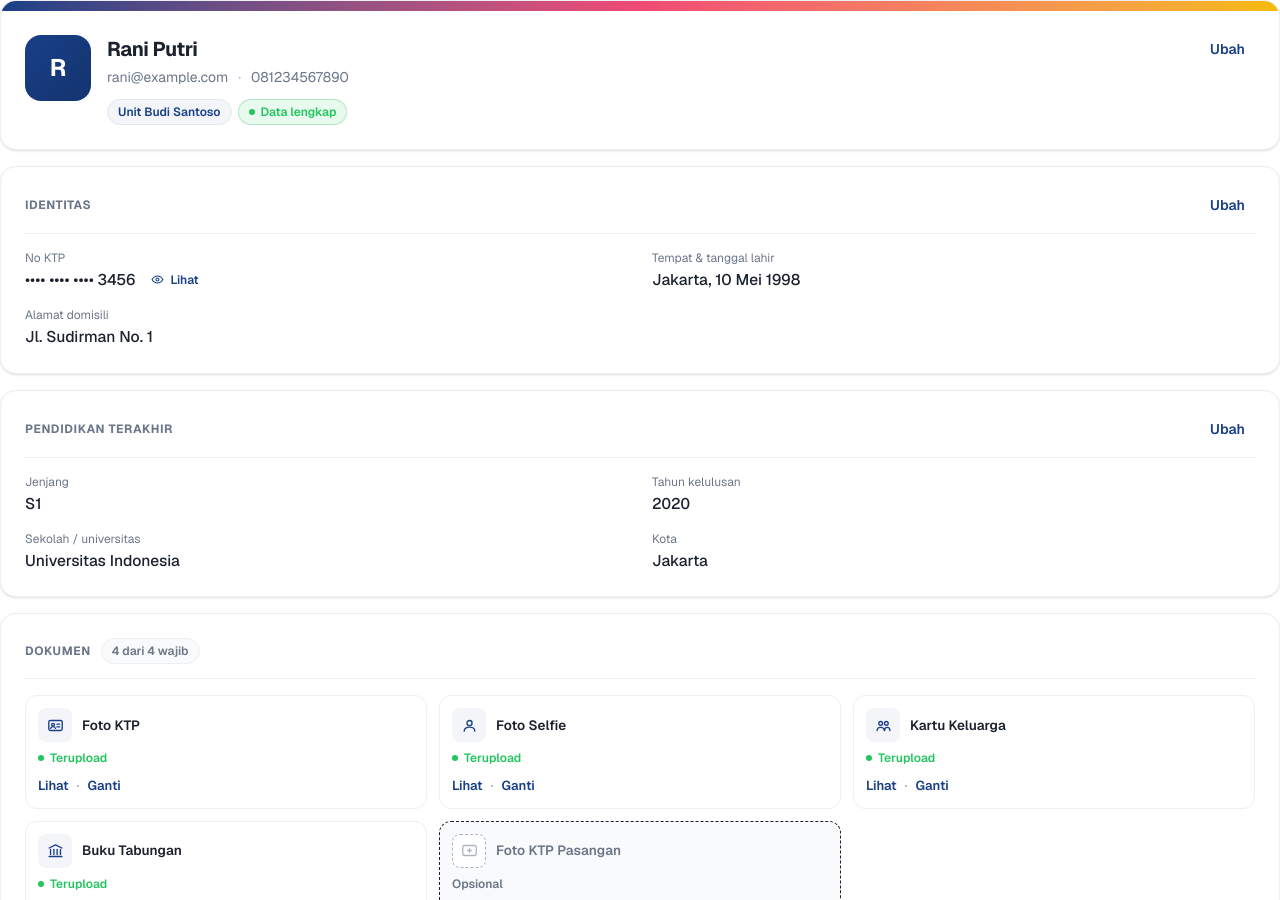
Test case: JoinDataForm — per-section editing › editing Identitas only sends that section's fields as changed
The width and height of the screenshot is (1280, 900).
Click the button with aria-label "Ubah Identitas" at (1227, 205), box [1200,191,1255,219]
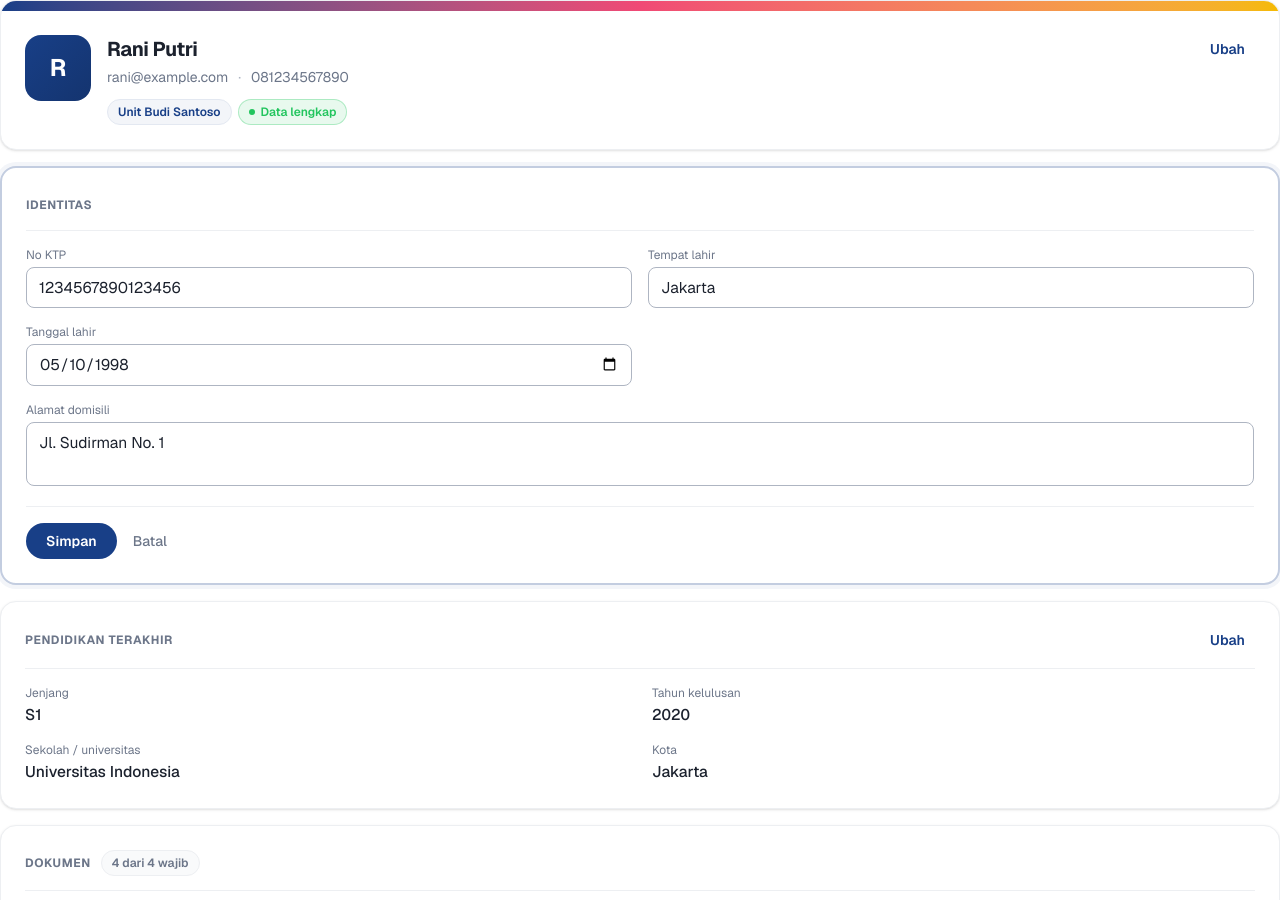
Replace the text in the field labelled "Tempat lahir" with "Bandung" at (951, 288), box [648,267,1254,308]
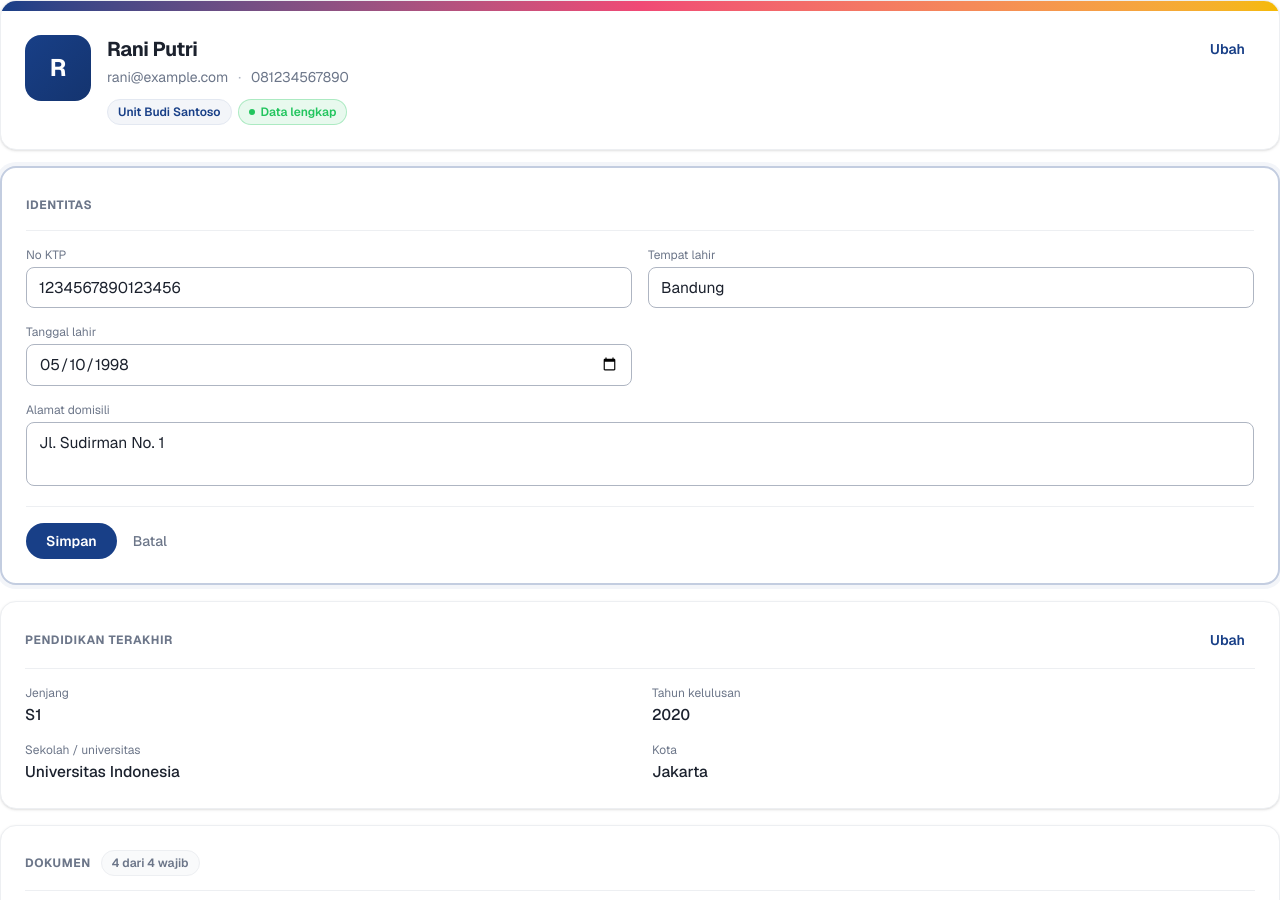
Click the button "Simpan" at (71, 541), box [26,523,117,559]
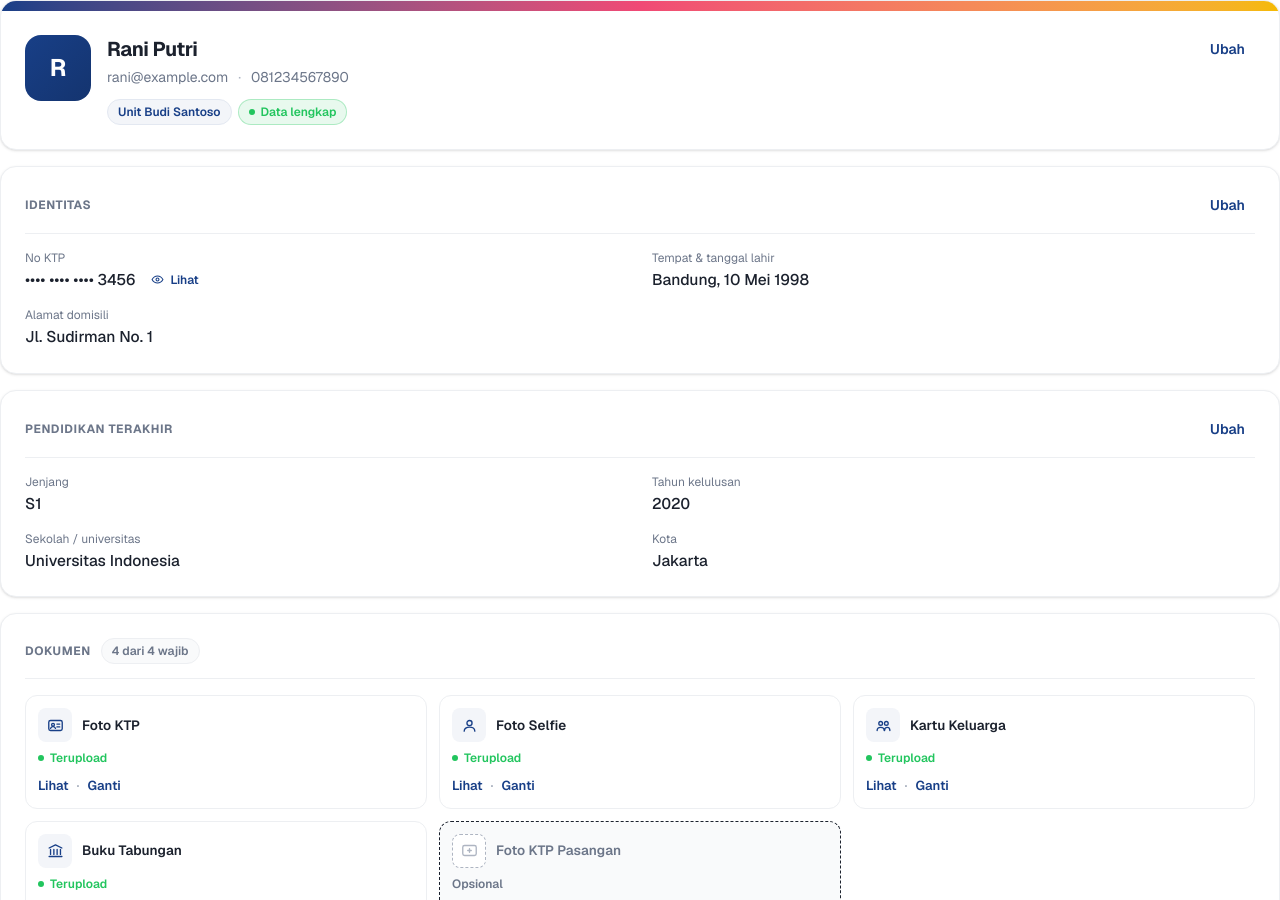
Expected: the text "Bandung, 10 Mei 1998" is shown, [652,269,809,290]
Expected: the text labelled "Tempat lahir" is gone
